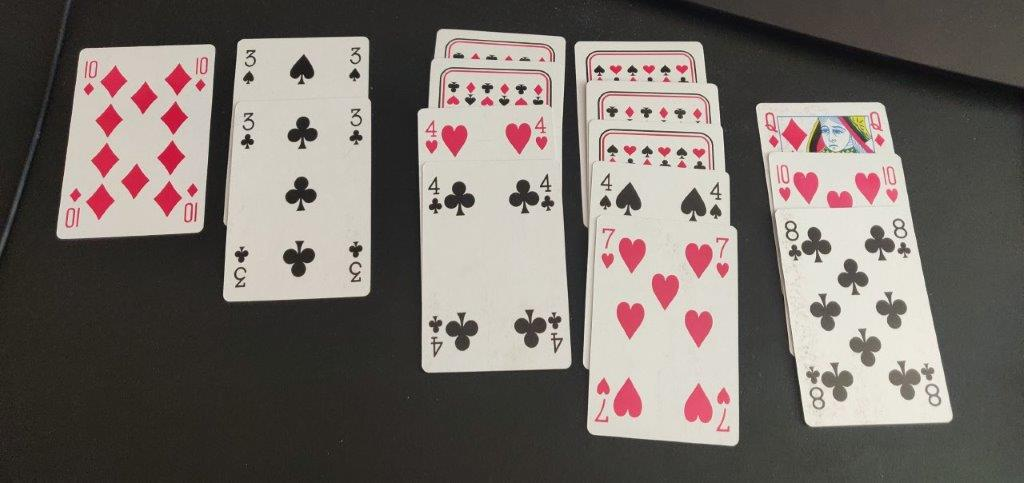10D: (190, 51, 212, 95), (78, 58, 101, 99)
10H: (880, 158, 905, 207), (773, 158, 798, 207)
3C: (236, 107, 261, 154), (345, 105, 367, 147)
3S: (345, 43, 365, 86), (240, 46, 259, 88)
4C: (424, 174, 444, 219), (539, 169, 557, 215)
4H: (531, 113, 551, 154), (422, 115, 441, 158)
4S: (592, 164, 616, 216), (708, 178, 725, 224)
7H: (714, 234, 731, 286), (600, 223, 618, 272)
8C: (778, 217, 804, 264), (889, 213, 912, 261)
QD: (762, 108, 784, 153), (867, 103, 888, 150)
